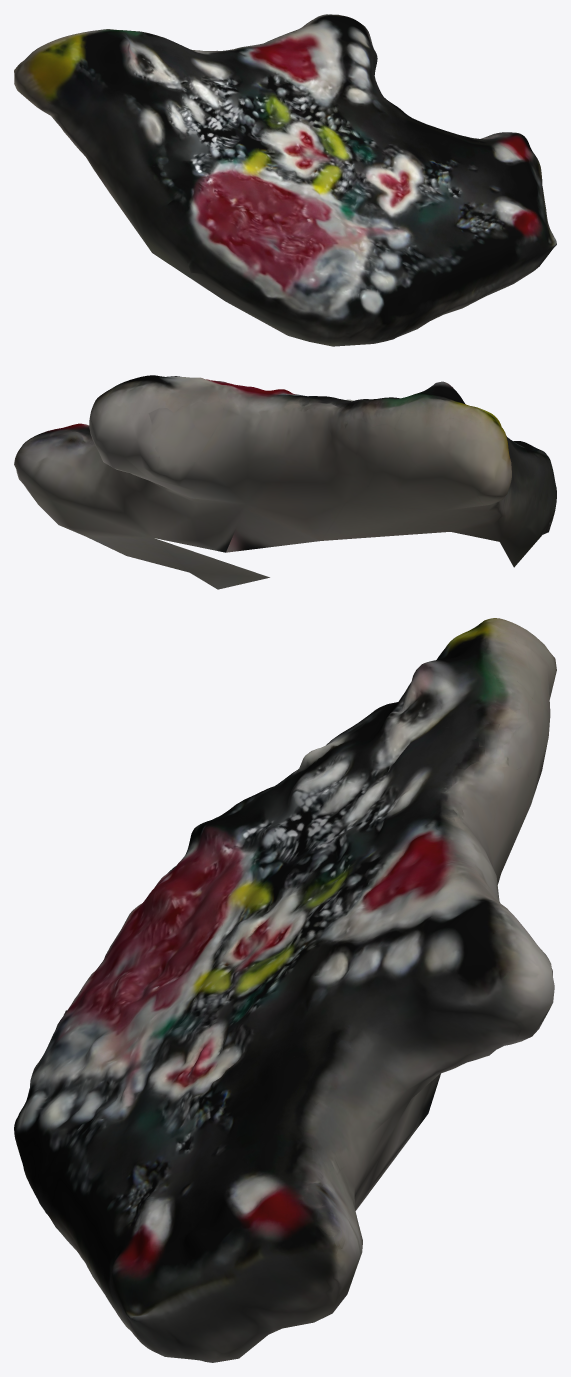
3 views of the same model, one above another, from view 1: azimuth 30°, elevation 25°; view 2: azimuth 150°, elevation 25°; view 3: azimuth 270°, elevation 25° (orthographic). The views are drawn at different scales.
Bounding box in the file's own units: 0.5953 × 0.3497 × 0.3643.
1 material, 1 textured.
